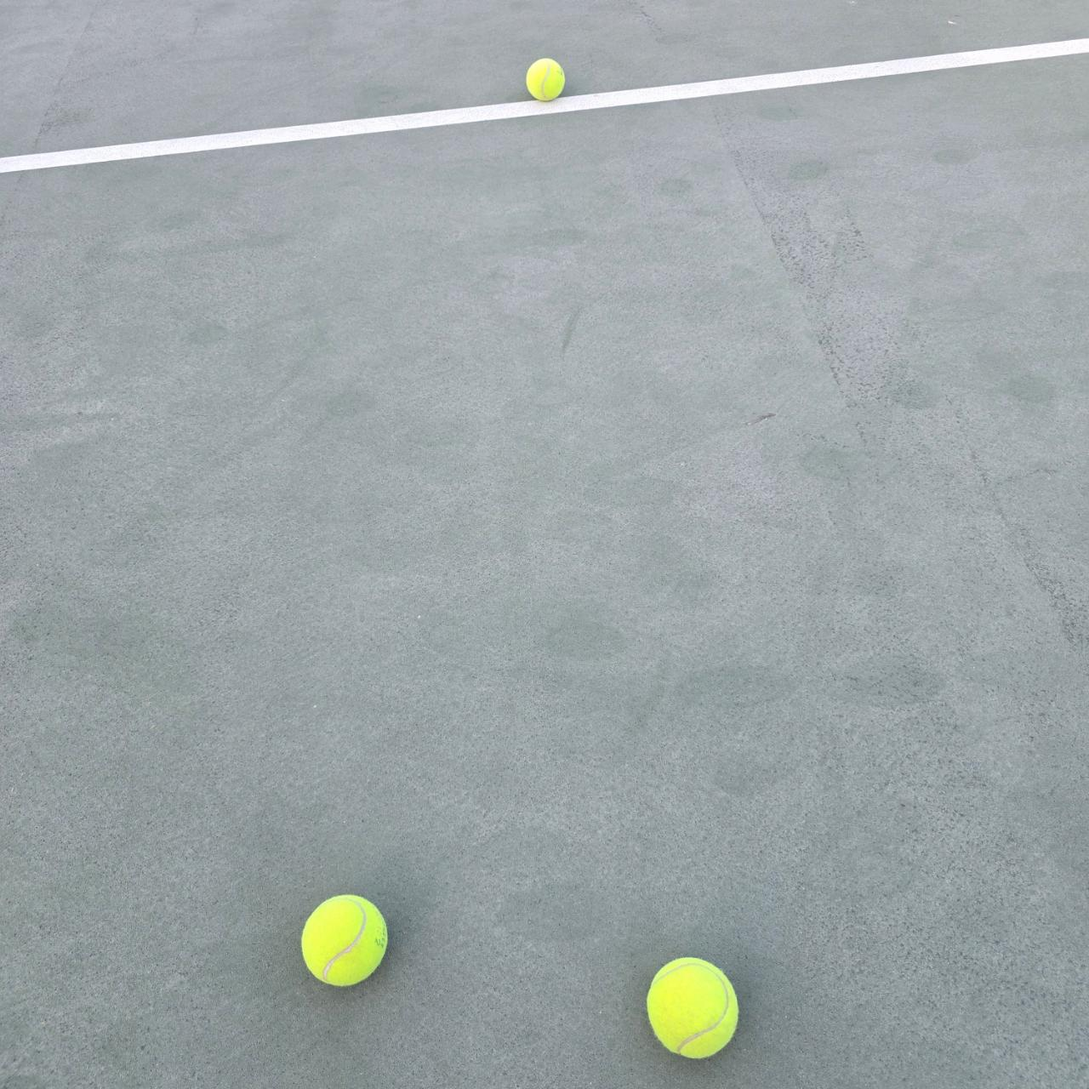tennis-ball: (644, 954, 739, 1060), (299, 891, 390, 988), (523, 55, 566, 101)
